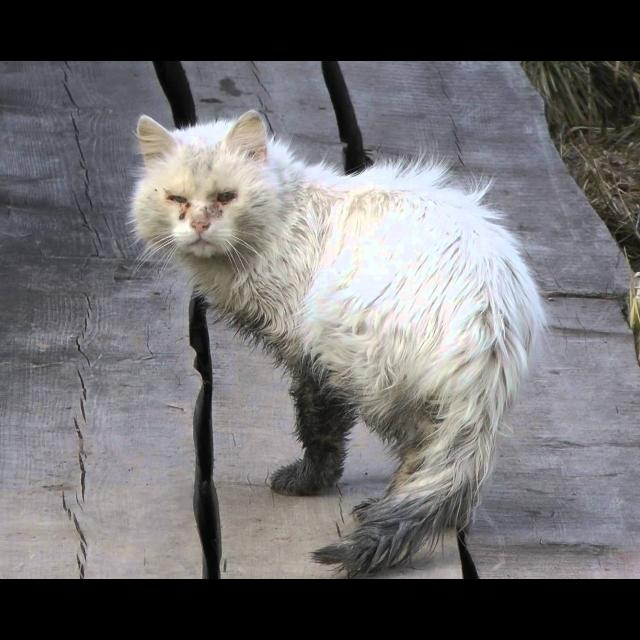animals: (131, 111, 537, 573)
